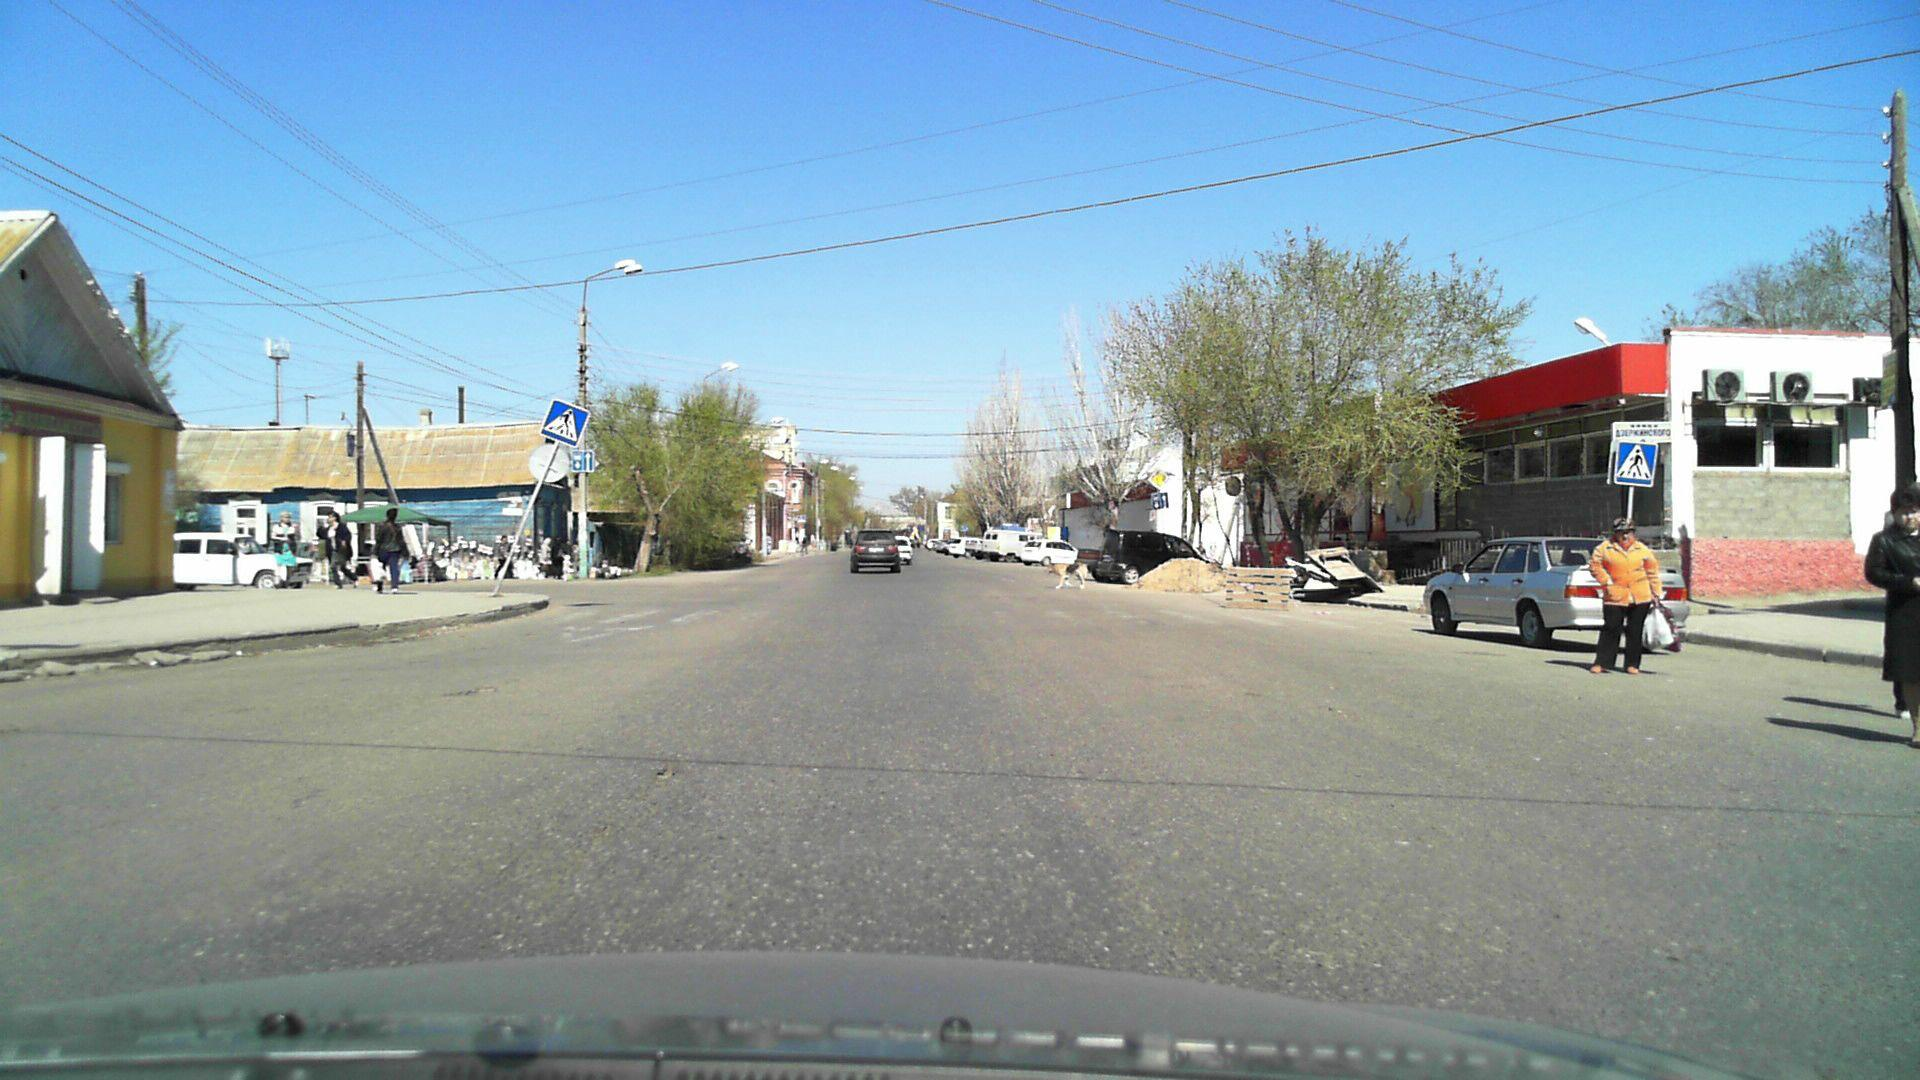2_1: (1149, 468, 1170, 491)
5_11_1: (571, 450, 595, 473), (1150, 492, 1170, 509)
5_19_1: (1614, 440, 1659, 487)
5_19_2: (538, 396, 591, 448)
